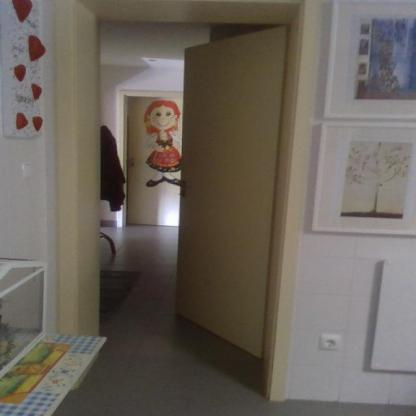door: (50, 3, 309, 405)
